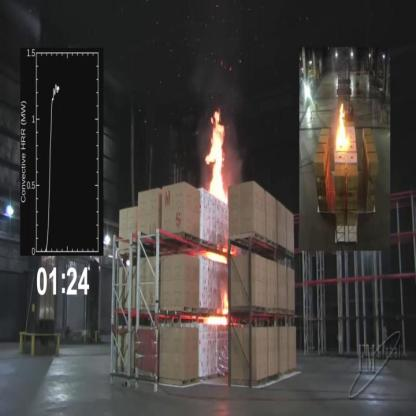fire: (204, 105, 231, 209), (222, 288, 229, 318)
